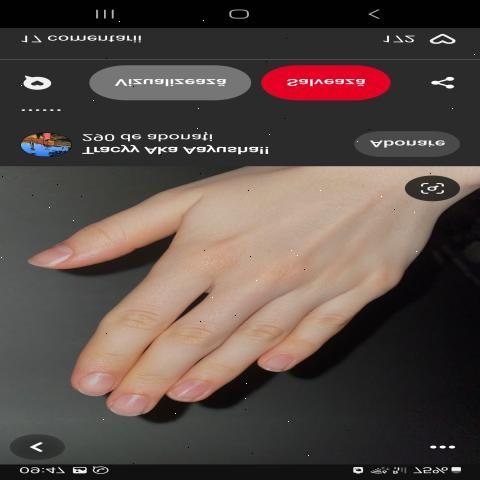Hands: (18, 169, 463, 437)
